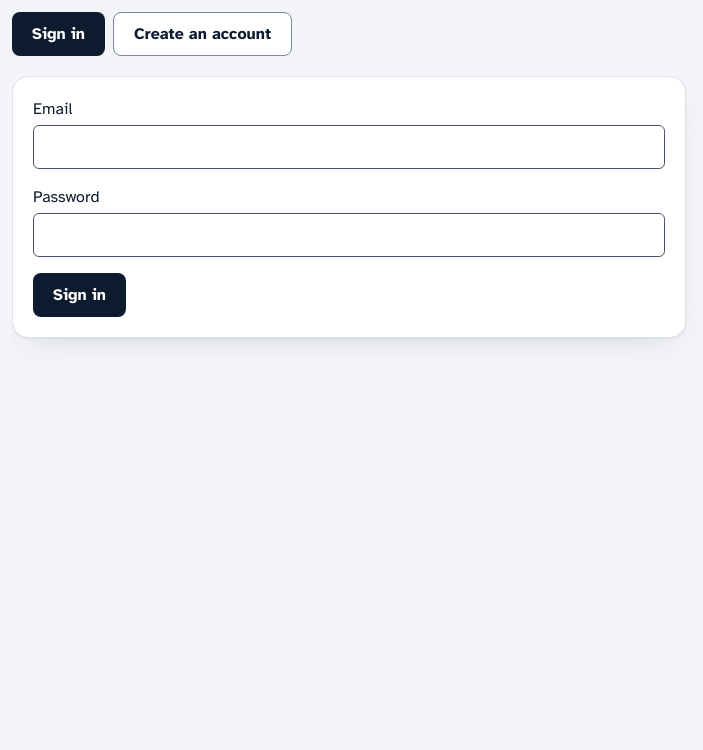
AccountPanel › creates an account with alert choices
The image size is (703, 750).
Later steps or results of the test are not shown.
Click the button "Create an account": point(202, 34) [113,12,292,56]
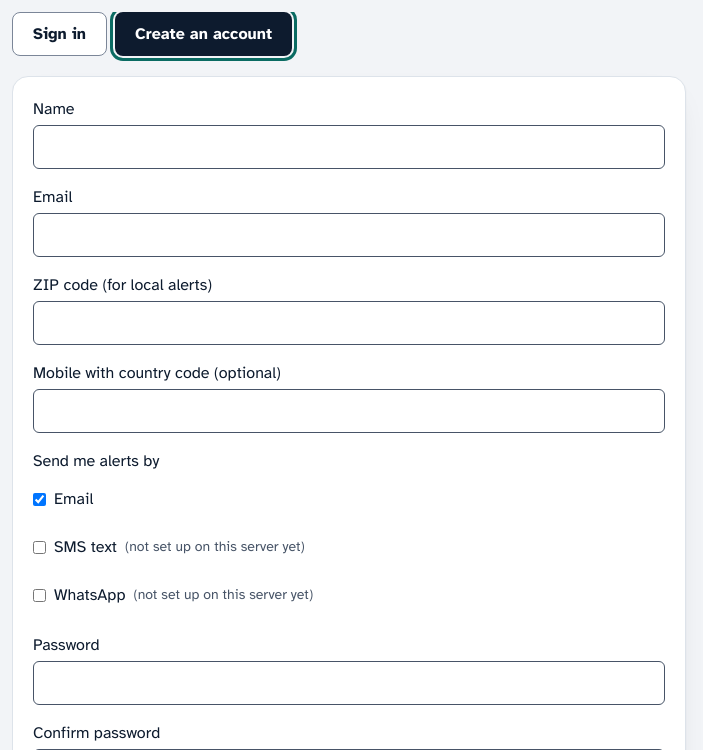
Now the button "Create an account" is pressed, box [115,12,292,56]
In the field labelled "Name": point(349, 147) [33,125,665,169], type "Ana"
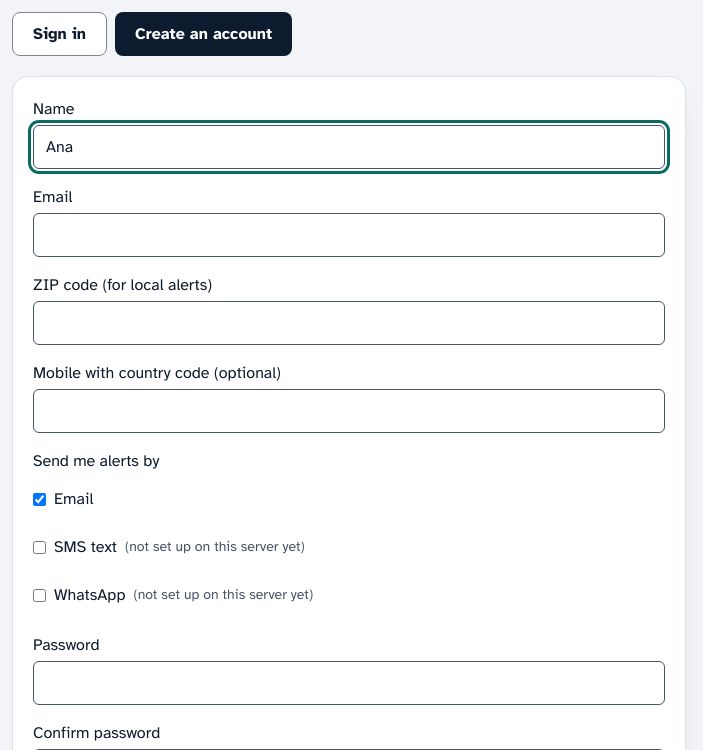
In the field labelled "ZIP code (for local alerts)": point(349, 323) [33,301,665,345], type "94110"
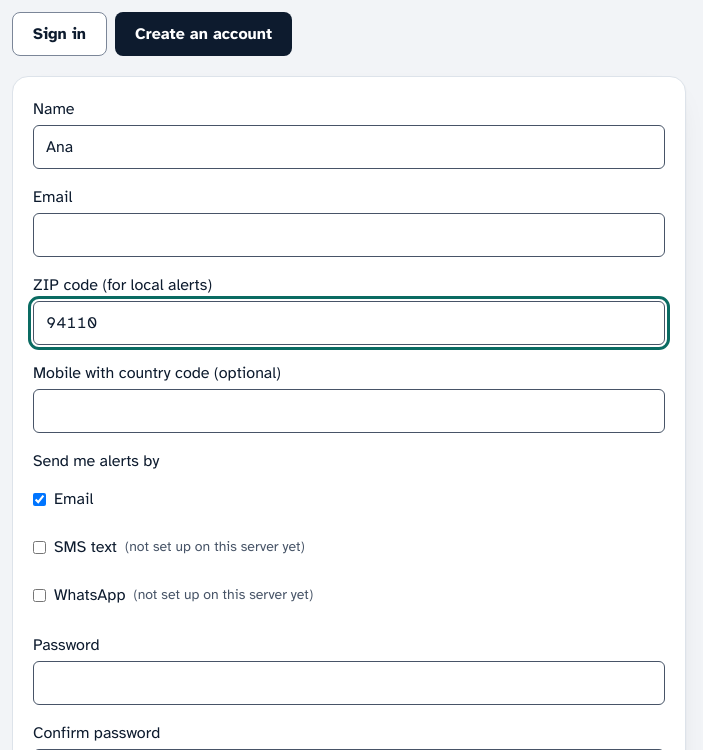
Now the text "(not set up on this server yet)" is shown 2 times, box [125,537,305,557]; [134,585,313,605]
